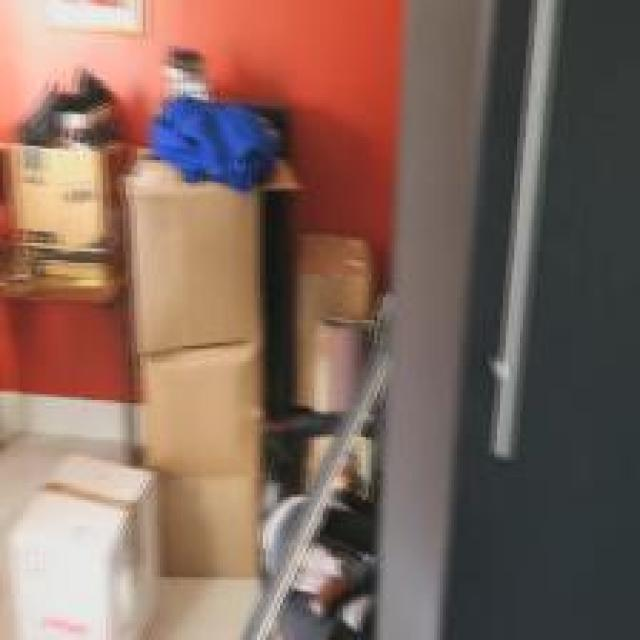other: (269, 18, 383, 202)
